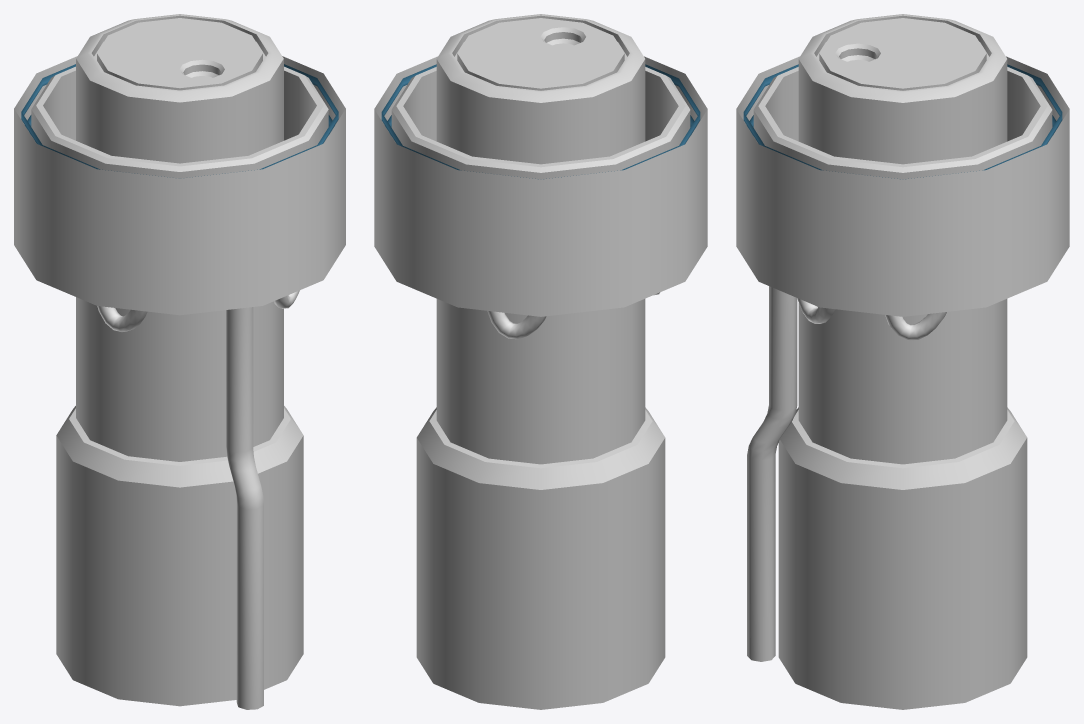
Rendered from Scrolling_Sign.fbx.
The picture shows the model from 3 angles, left to right: view 1: azimuth 30°, elevation 25°; view 2: azimuth 150°, elevation 25°; view 3: azimuth 270°, elevation 25°; orthographic projection.
Parts seen in each view (by area): view 1: Cylinder, Cylinder.004, BezierCurve.001, Cylinder.003, BezierCurve; view 2: Cylinder, Cylinder.004, Cylinder.003, BezierCurve; view 3: Cylinder, Cylinder.004, BezierCurve.001, BezierCurve, Cylinder.003.
Boxes of the visible parts, x1,y1,x2,y2 form: Cylinder: [31, 14, 328, 706]; Cylinder.004: [14, 56, 345, 315]; BezierCurve.001: [226, 307, 263, 709]; Cylinder.003: [21, 64, 338, 177]; BezierCurve: [97, 290, 299, 331]; Cylinder: [391, 14, 690, 709]; Cylinder.004: [374, 56, 707, 316]; Cylinder.003: [381, 64, 700, 179]; BezierCurve: [487, 292, 659, 339]; Cylinder: [753, 14, 1052, 709]; Cylinder.004: [736, 56, 1069, 316]; BezierCurve.001: [747, 286, 797, 661]; BezierCurve: [797, 298, 946, 340]; Cylinder.003: [743, 64, 1062, 179].
Size of the model in its own units: 1183 by 2365 by 1183.
